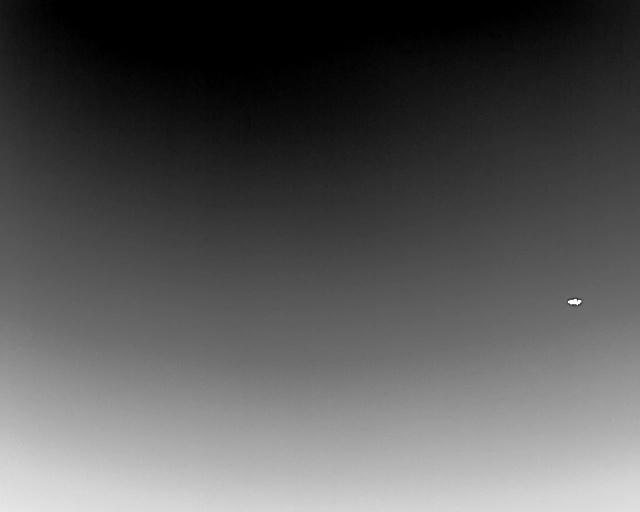fpv-drone: (566, 297, 582, 306)
